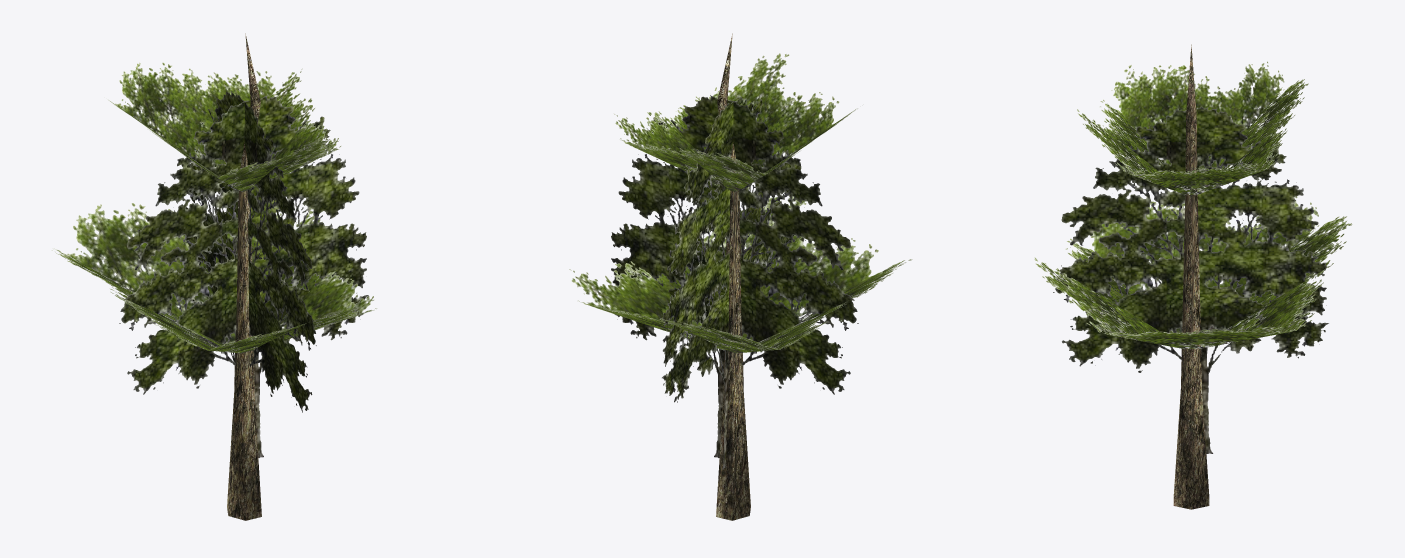
Rendered from tree01_model.FBX.
The picture shows the model from 3 angles, left to right: view 1: azimuth 30°, elevation 25°; view 2: azimuth 150°, elevation 25°; view 3: azimuth 270°, elevation 25°; orthographic projection. The views are drawn at different scales.
Visible parts, largest first — view 1: ramas, top, tronco; view 2: ramas, top, tronco; view 3: ramas, top, tronco.
Part boxes in pixels (x1,y1,x2,y2): ramas: (119,91,368,458); top: (52,62,376,353); tronco: (227,33,261,520); ramas: (611,95,858,469); top: (569,53,912,353); tronco: (716,33,750,520); ramas: (1053,106,1328,453); top: (1034,61,1352,349); tronco: (1173,44,1209,509).
Bounding box in the file's own units: 29.98 × 38.06 × 29.98.
Materials: 3 (3 with a texture image).
